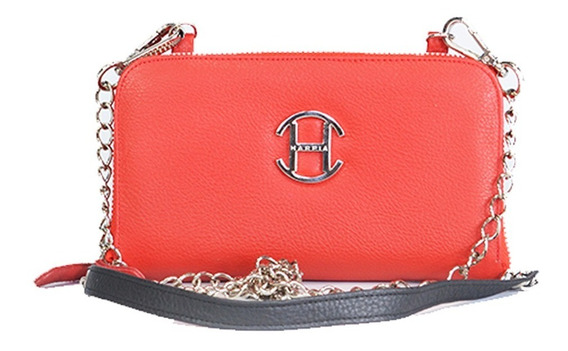cartera: (96, 16, 517, 332)
